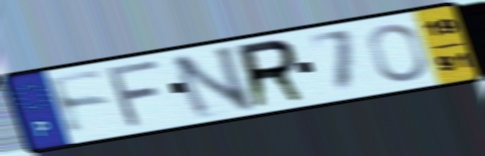7: (305, 29, 358, 96)
F: (43, 68, 115, 140), (106, 57, 165, 131)
N: (167, 42, 258, 122)
O: (365, 21, 430, 84)
R: (235, 36, 311, 112)
